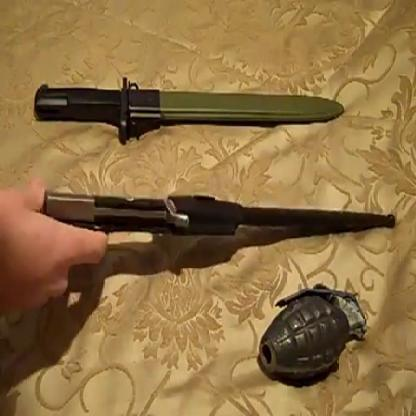Grenade: (259, 282, 369, 385)
Knife: (34, 76, 345, 147), (39, 191, 399, 237)
